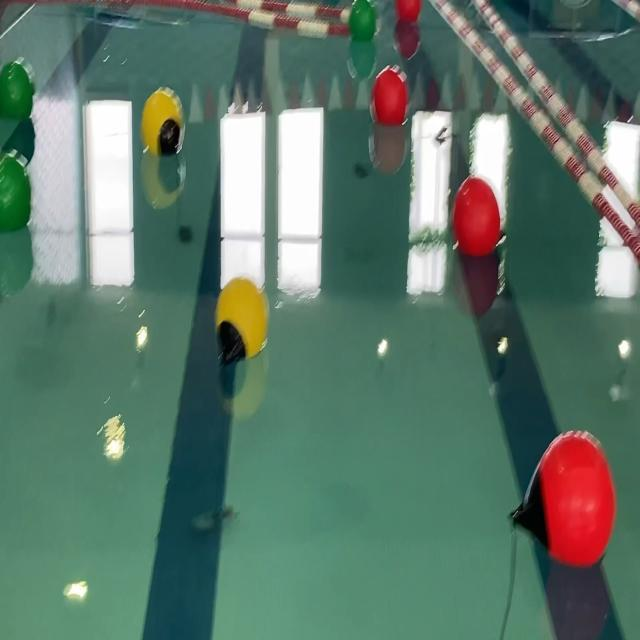buoy: (508, 431, 619, 574), (214, 276, 268, 368), (452, 178, 502, 259), (142, 88, 183, 160), (0, 150, 33, 236), (373, 64, 410, 128), (1, 60, 35, 124), (349, 0, 377, 43), (397, 1, 420, 24)
